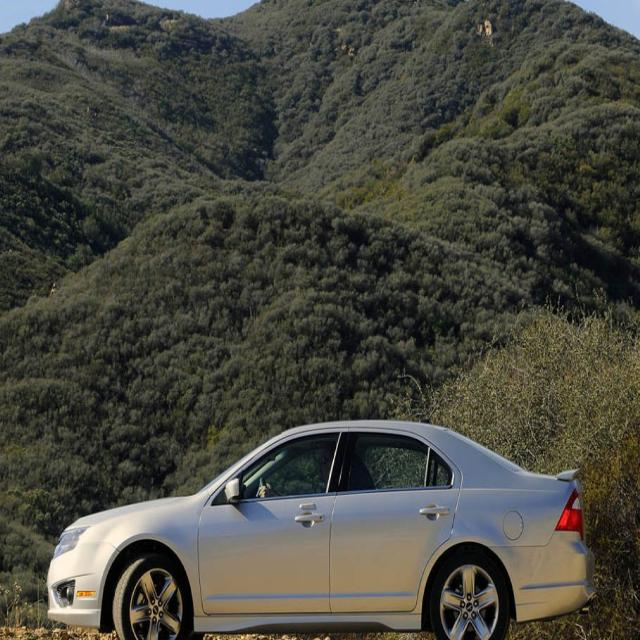back_left_side_light: (554, 482, 584, 538)
door: (329, 423, 466, 614)
front_bumper: (45, 536, 124, 636)
front_left_side_door: (196, 424, 351, 616)
front_left_side_light: (51, 524, 92, 562)
front_left_side_mirror: (224, 476, 241, 507)
rear_bumper: (489, 532, 598, 627)
wheel: (431, 548, 509, 640), (114, 552, 186, 640)
